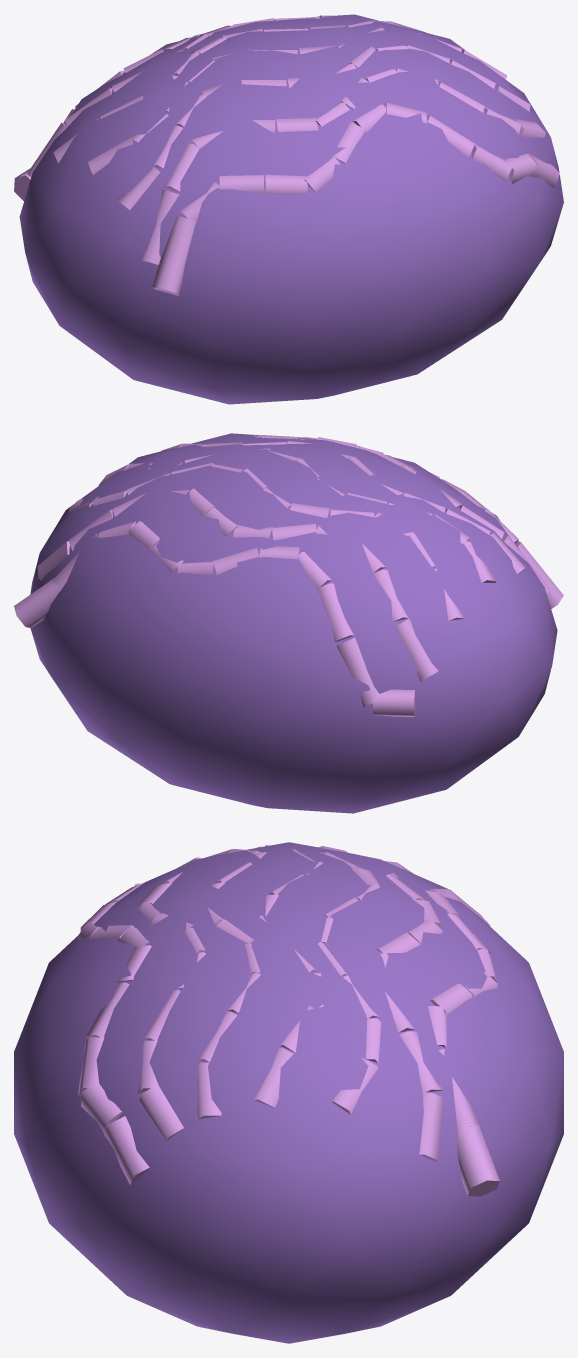
The model's file is coral-brain.glb.
The picture shows the model from 3 angles, top to bottom: view 1: azimuth 30°, elevation 25°; view 2: azimuth 150°, elevation 25°; view 3: azimuth 270°, elevation 25°; orthographic projection. The views are drawn at different scales.
Bounding box in the file's own units: 3 × 1.93 × 2.41.
